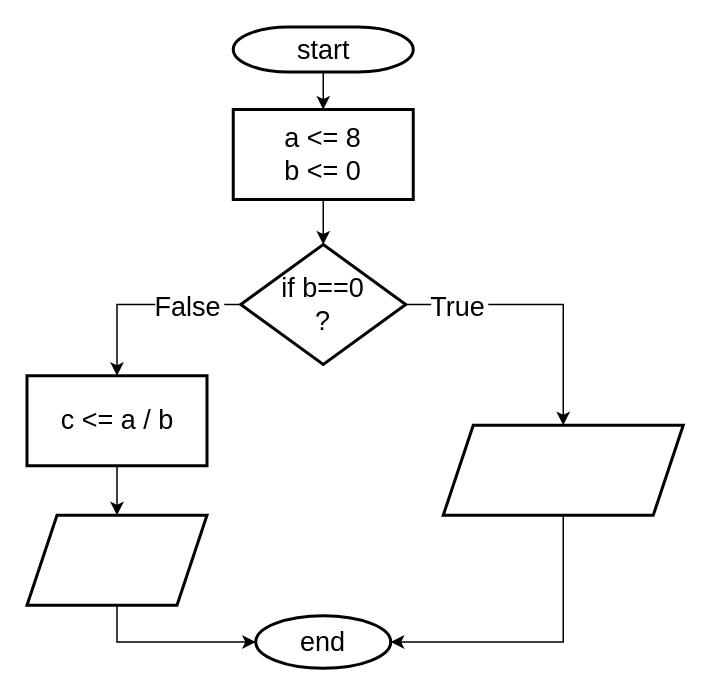
Some shapes in this 711 by 696 pixel diagram are drawn without their labels. The shapes that lost their labels are listed below. From the top down, each one's box as (x1, y1, x2, y2) in pixels, then its label:
(441, 423, 684, 516): Print can't divide by 0
(25, 513, 208, 606): Print a / b = c
